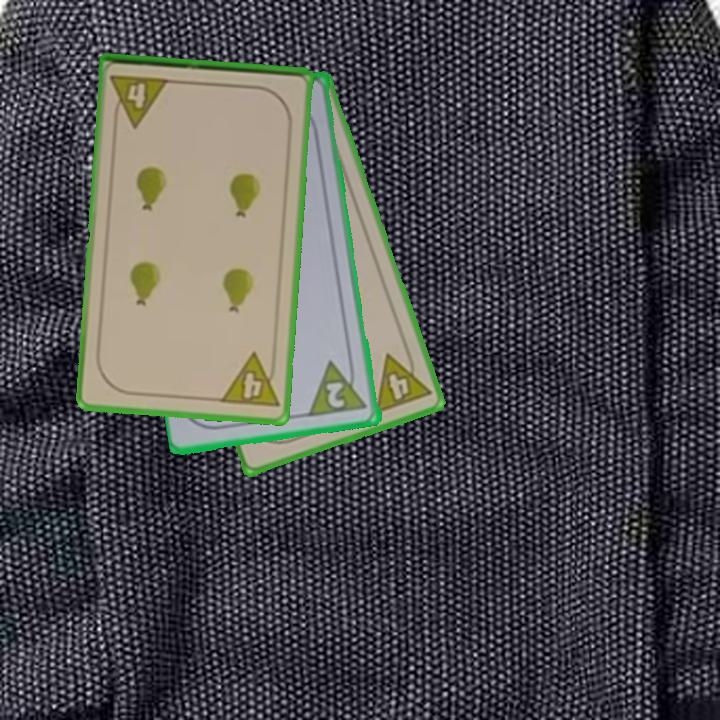2p: (306, 354, 371, 420)
4p: (371, 344, 434, 417), (216, 349, 282, 411), (107, 71, 172, 130)
